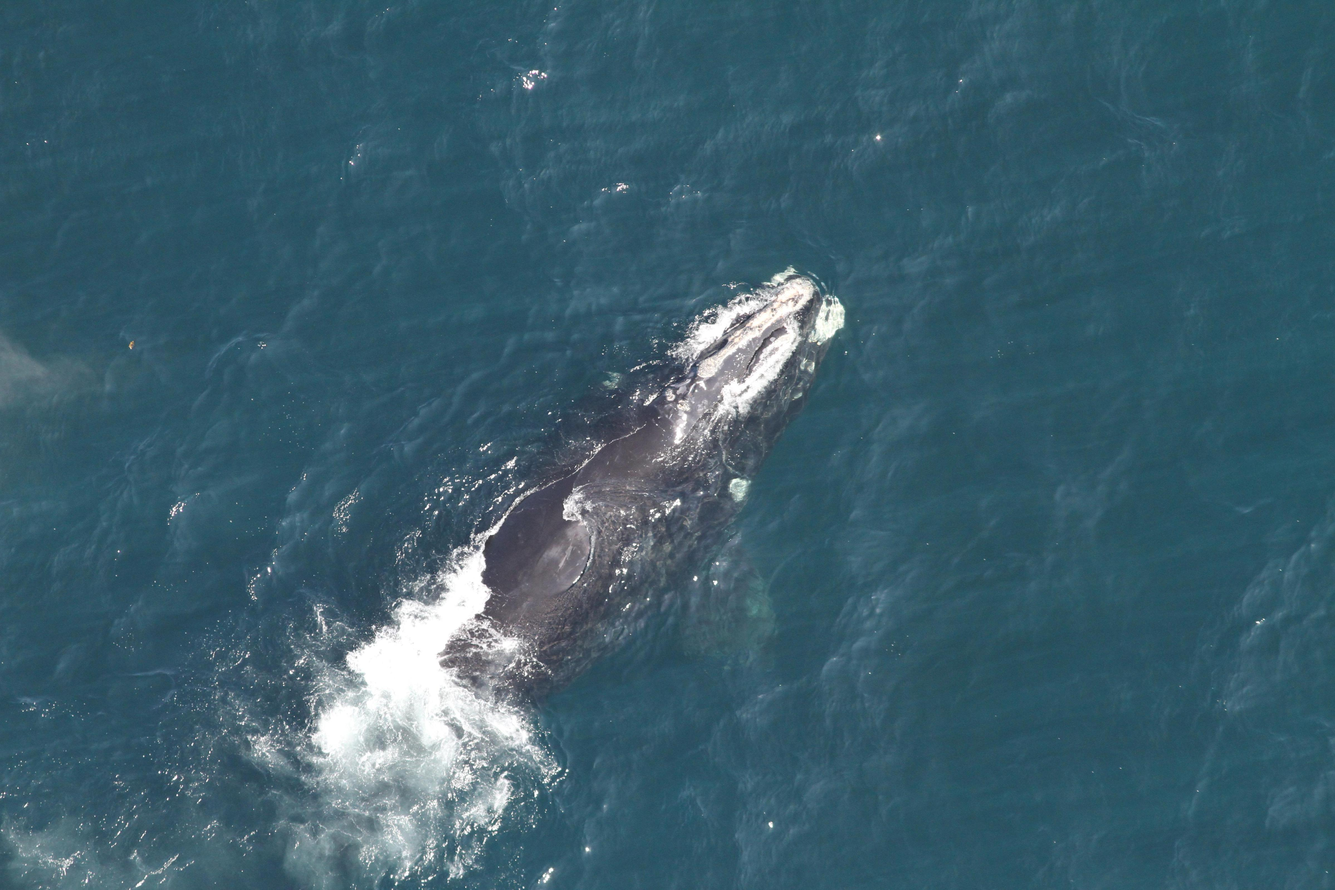whale: (307, 257, 854, 879)
